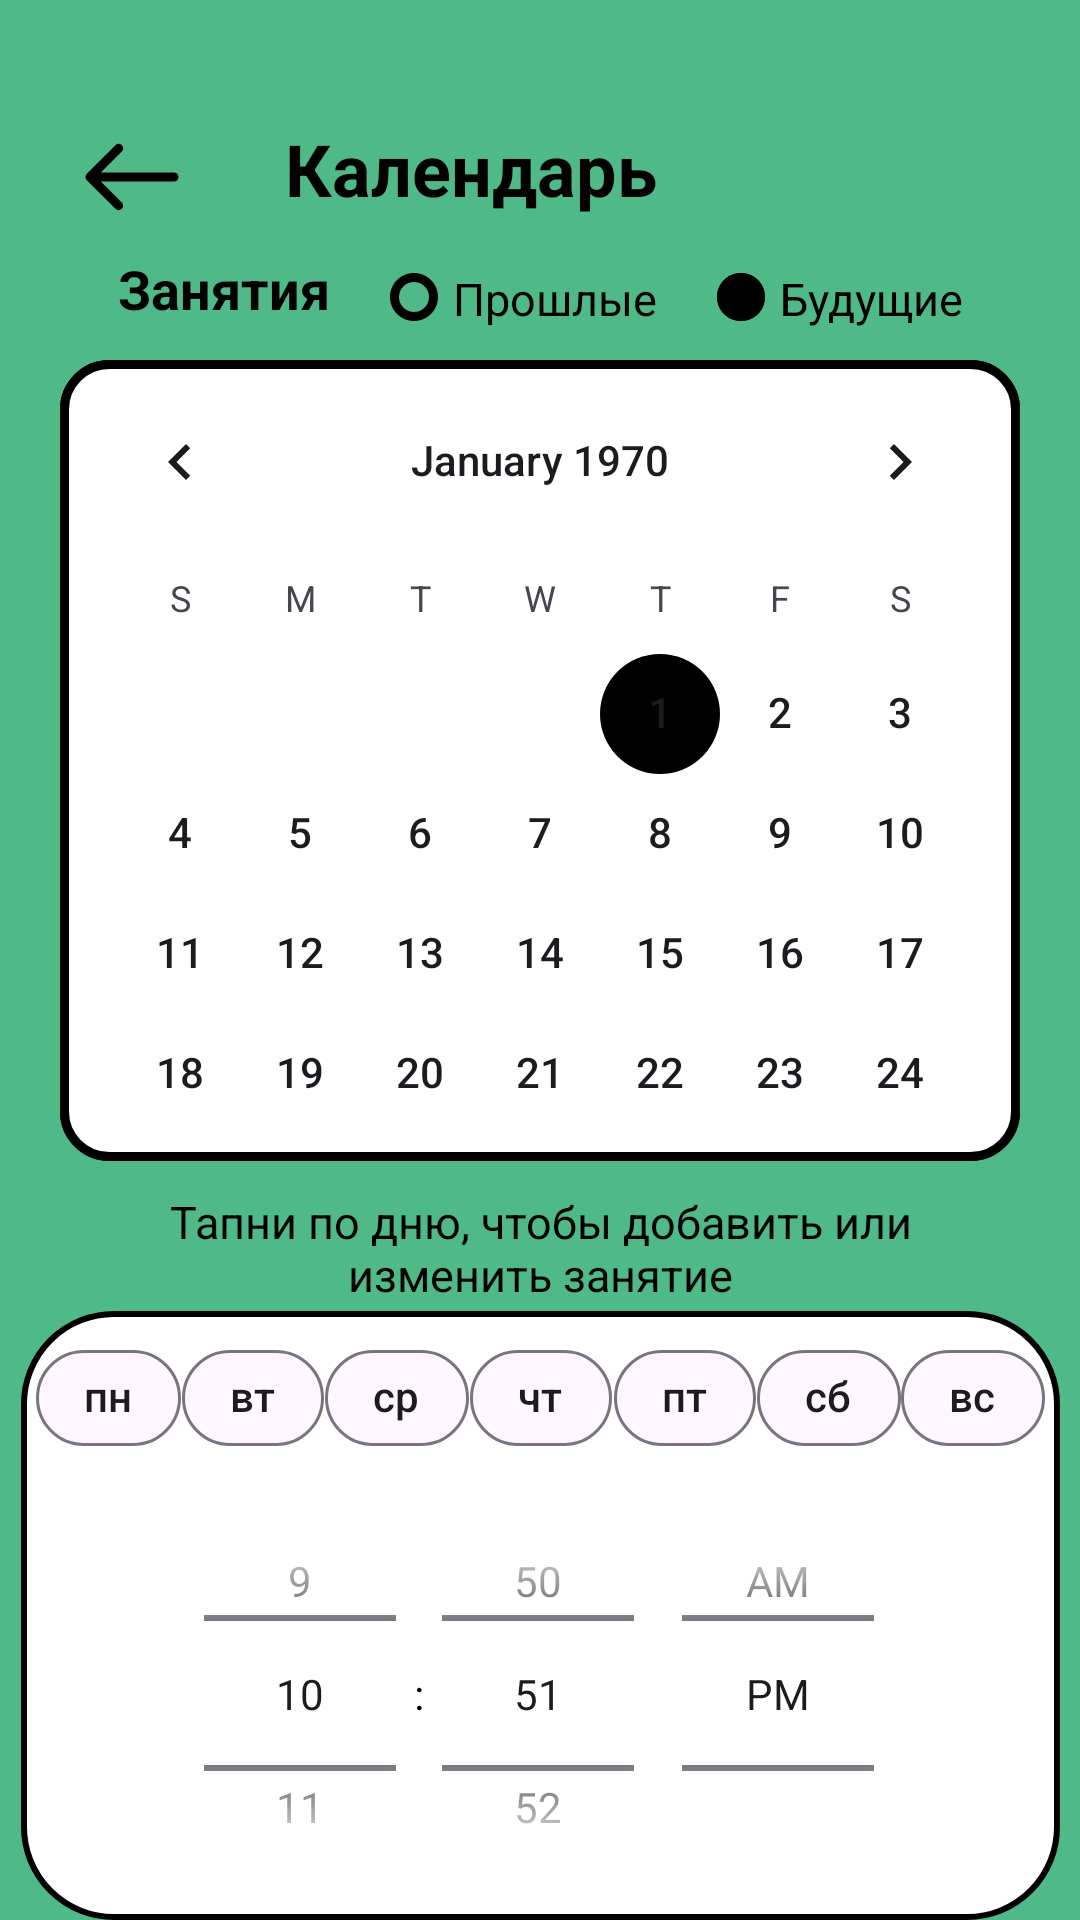

Where to tap for icons on this 1080x1920 app screen, as [x,y]:
arrow: [132,177]
